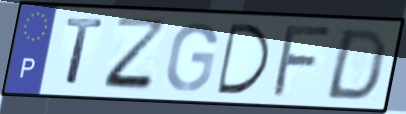D: (321, 27, 391, 103), (214, 20, 273, 97)
F: (268, 24, 338, 100)
G: (163, 20, 220, 94)
T: (64, 15, 107, 89)
Z: (100, 15, 172, 95)
